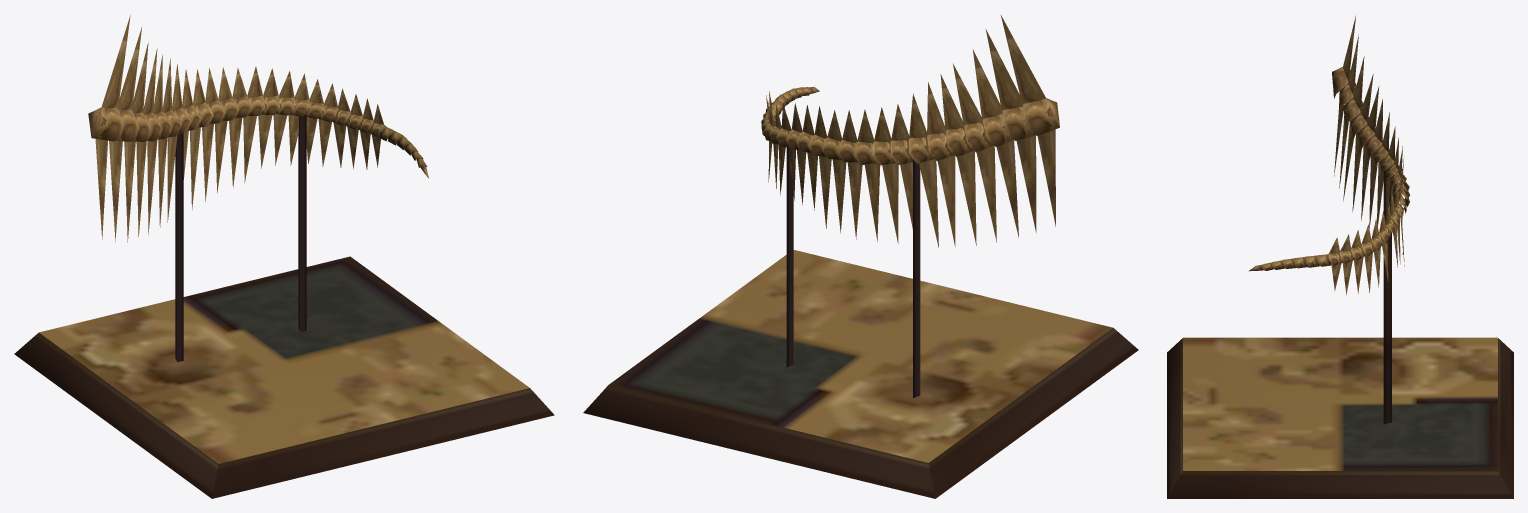
File: int_din_spi_c.dae
3 views of the same model, side by side, from view 1: azimuth 30°, elevation 25°; view 2: azimuth 150°, elevation 25°; view 3: azimuth 270°, elevation 25° (orthographic). The views are drawn at different scales.
Visible parts, largest first — view 1: int_din_spi_c; view 2: int_din_spi_c; view 3: int_din_spi_c.
Boxes of the visible parts, <box> form: int_din_spi_c: <box>14,15,554,498</box>; int_din_spi_c: <box>583,15,1138,498</box>; int_din_spi_c: <box>1167,16,1513,498</box>.
Size of the model in its own units: 62.41 by 65.3 by 58.65.
Materials: 1 (1 with a texture image).
